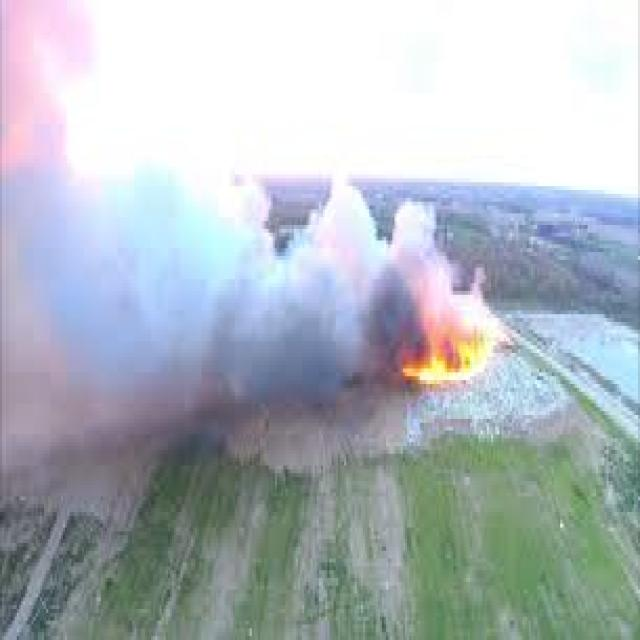fire: (402, 326, 486, 398)
smoke: (0, 101, 489, 423)
